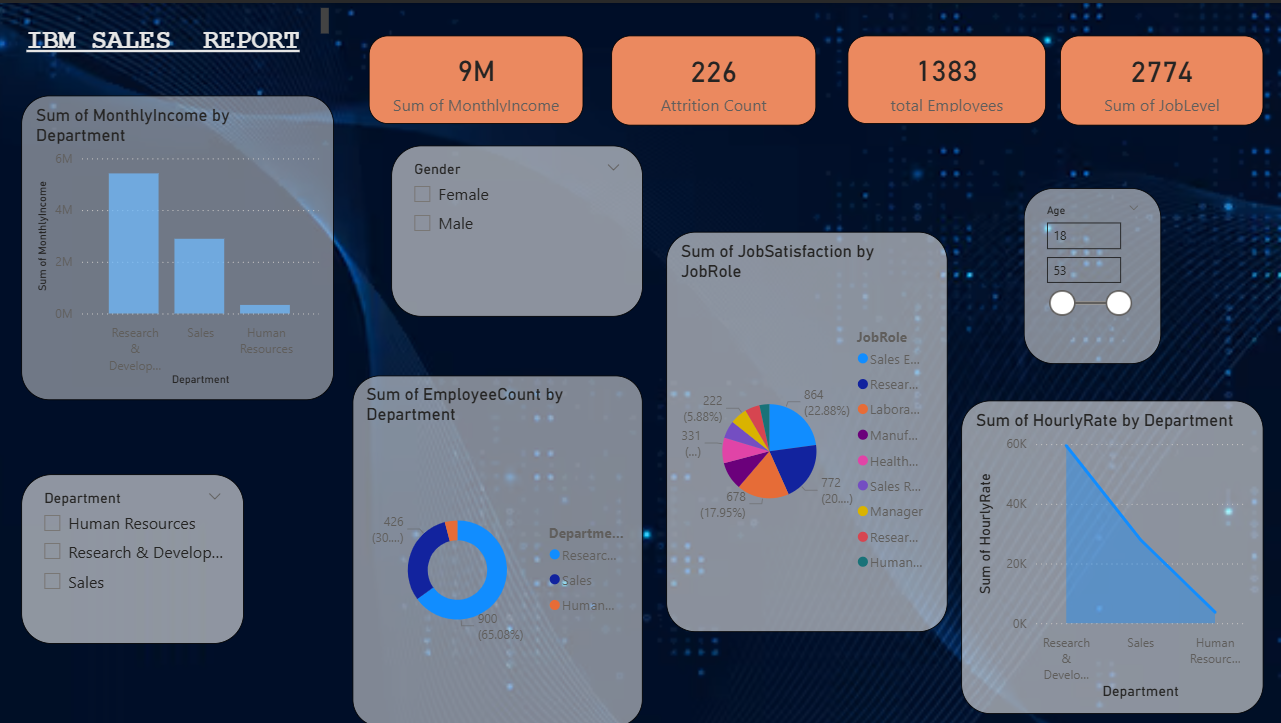

The page's visual inventory and layout, read from the dashboard file:
{"tool":"powerbi","page":{"name":"Page 1","canvas":[1280,720],"ordinal":0},"visuals":[{"type":"clusteredColumnChart","fields":{"Category":["IBM DataSet.Department"],"Y":["Sum(IBM DataSet.MonthlyIncome)"]},"box":[21.1,92.1,311,303.5],"z":0},{"type":"pieChart","fields":{"Category":["IBM DataSet.JobRole"],"Y":["Sum(IBM DataSet.JobSatisfaction)"]},"box":[663,227.6,279.9,398.1],"z":1000},{"type":"areaChart","fields":{"Y":["Sum(IBM DataSet.HourlyRate)"],"Category":["IBM DataSet.Department"]},"box":[956.6,395.6,301,312.2],"z":2000},{"type":"donutChart","fields":{"Y":["Sum(IBM DataSet.EmployeeCount)"],"Category":["IBM DataSet.Department"]},"box":[350.8,370.7,288.6,349.6],"z":3000},{"type":"slicer","fields":{"Values":["IBM DataSet.Department"]},"box":[21.1,469,221.4,169.2],"z":4000},{"type":"slicer","fields":{"Values":["IBM DataSet.Gender"]},"box":[389.4,141.8,250,170.4],"z":5000},{"type":"slicer","fields":{"Values":["IBM DataSet.Age"]},"box":[1018.8,184.1,136.8,175.4],"z":6000},{"type":"card","fields":{"Values":["Sum(IBM DataSet.MonthlyIncome)"]},"box":[367,32.3,214,88.3],"z":7000},{"type":"card","fields":{"Values":["IBM DataSet.total Employees"]},"box":[843.4,32.3,197.8,88.3],"z":8000},{"type":"card","fields":{"Values":["IBM DataSet.Attrition Count"]},"box":[608.3,32.3,204,89.6],"z":9000},{"type":"card","fields":{"Values":["Sum(IBM DataSet.JobLevel)"]},"box":[1054.9,32.3,202.8,89.6],"z":10000},{"type":"textbox","box":[0,0,332.1,64.7],"z":11000}]}

Visuals, with their boxes in screenshot pixels (x1, y1, x2, y2), scaled from the page's 1280x720 canvas onto the 1281x723 screenshot:
clusteredColumnChart - IBM DataSet.Department x Sum(IBM DataSet.MonthlyIncome): pyautogui.locateOnScreen(21, 92, 332, 397)
pieChart - IBM DataSet.JobRole x Sum(IBM DataSet.JobSatisfaction): pyautogui.locateOnScreen(664, 229, 944, 628)
areaChart - Sum(IBM DataSet.HourlyRate) x IBM DataSet.Department: pyautogui.locateOnScreen(957, 397, 1259, 711)
donutChart - Sum(IBM DataSet.EmployeeCount) x IBM DataSet.Department: pyautogui.locateOnScreen(351, 372, 640, 722)
slicer - IBM DataSet.Department: pyautogui.locateOnScreen(21, 471, 243, 641)
slicer - IBM DataSet.Gender: pyautogui.locateOnScreen(390, 142, 640, 314)
slicer - IBM DataSet.Age: pyautogui.locateOnScreen(1020, 185, 1157, 361)
card - Sum(IBM DataSet.MonthlyIncome): pyautogui.locateOnScreen(367, 32, 581, 121)
card - IBM DataSet.total Employees: pyautogui.locateOnScreen(844, 32, 1042, 121)
card - IBM DataSet.Attrition Count: pyautogui.locateOnScreen(609, 32, 813, 122)
card - Sum(IBM DataSet.JobLevel): pyautogui.locateOnScreen(1056, 32, 1259, 122)
textbox: pyautogui.locateOnScreen(0, 0, 332, 65)
